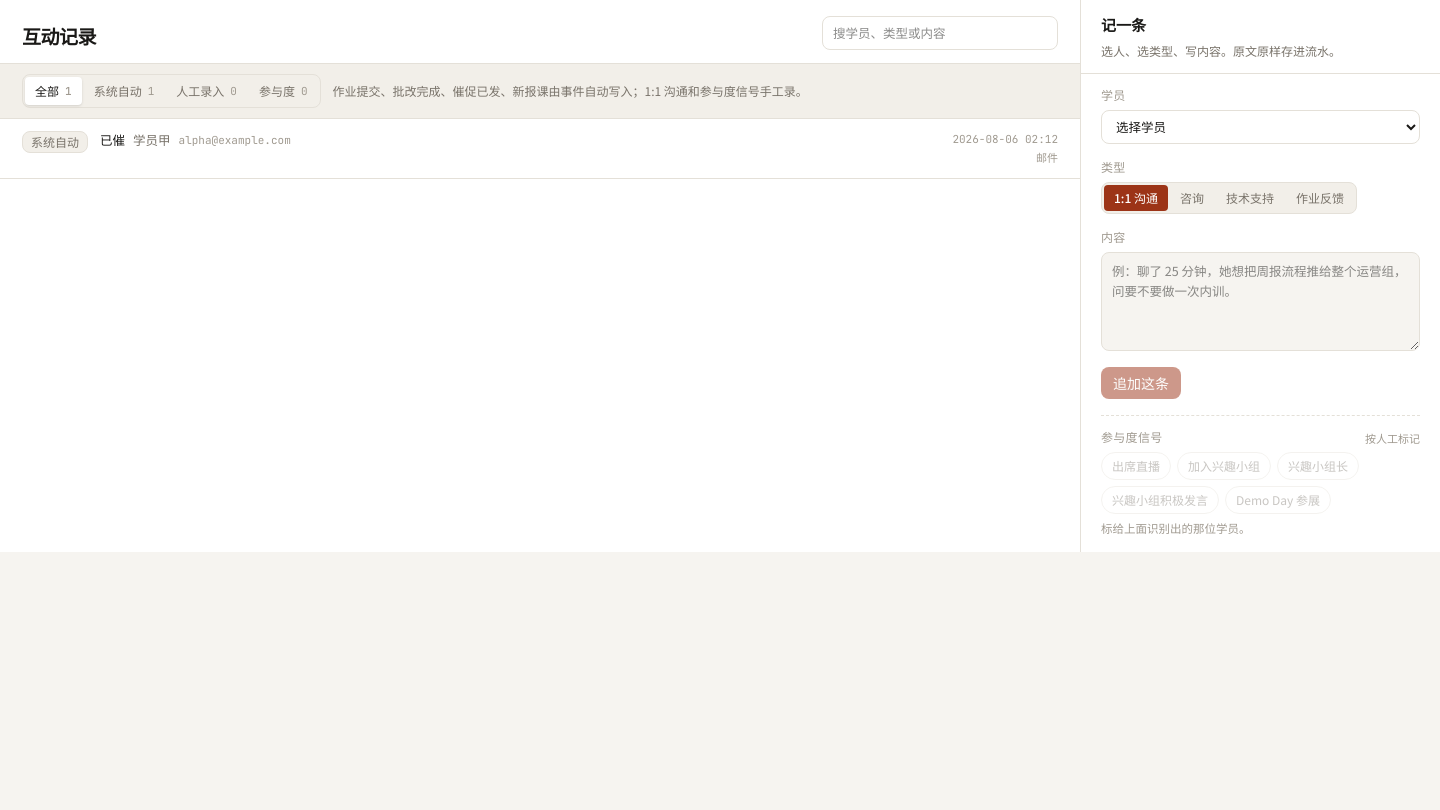
Test: 空结果 › 筛选组合下没有记录时显示说明文案
Step 1. Type "不存在的学员" into the field labelled "搜学员、类型或内容" → (940,33), box [833,24,1047,42]
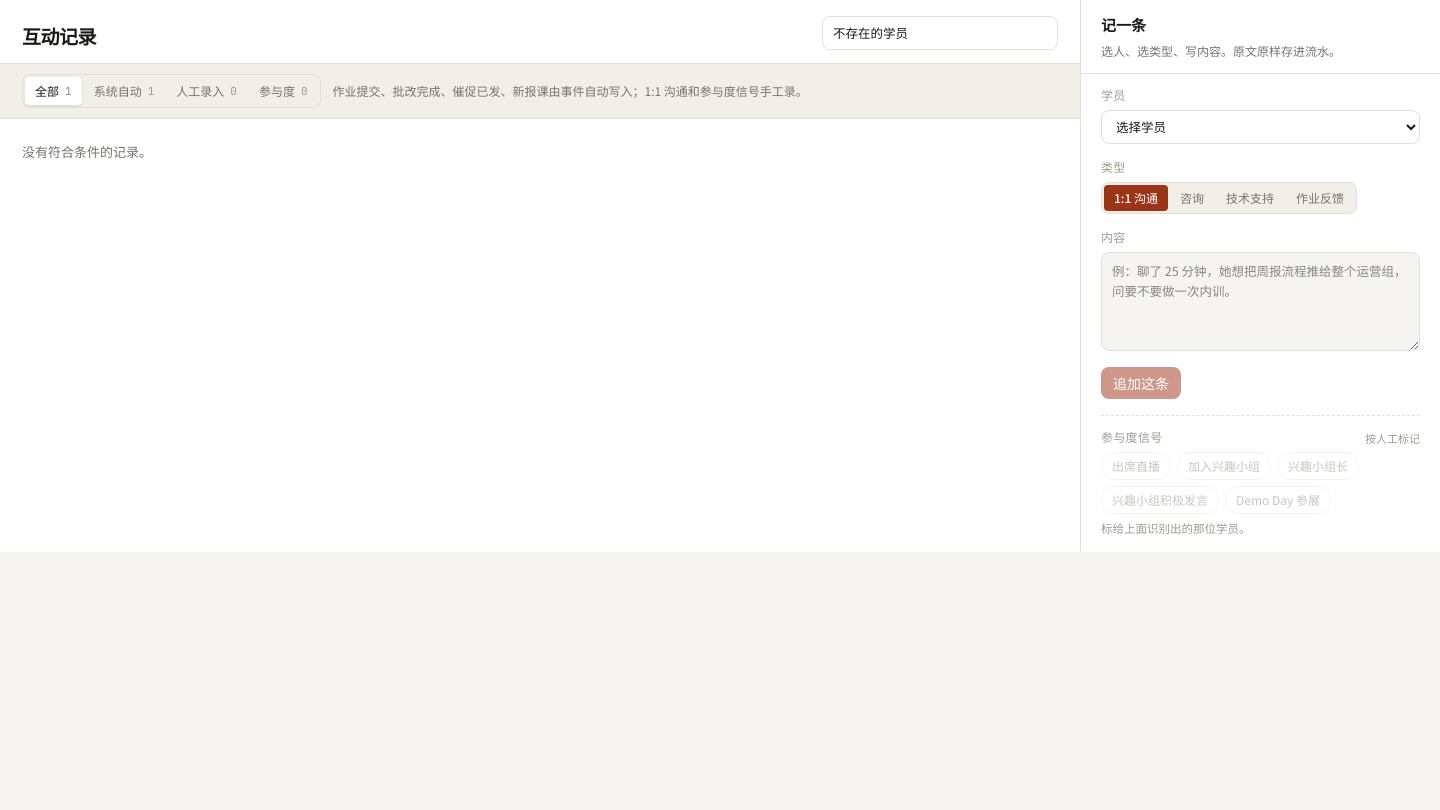
expect the text "没有符合条件的记录。" is shown: met, box [22,142,152,161]
